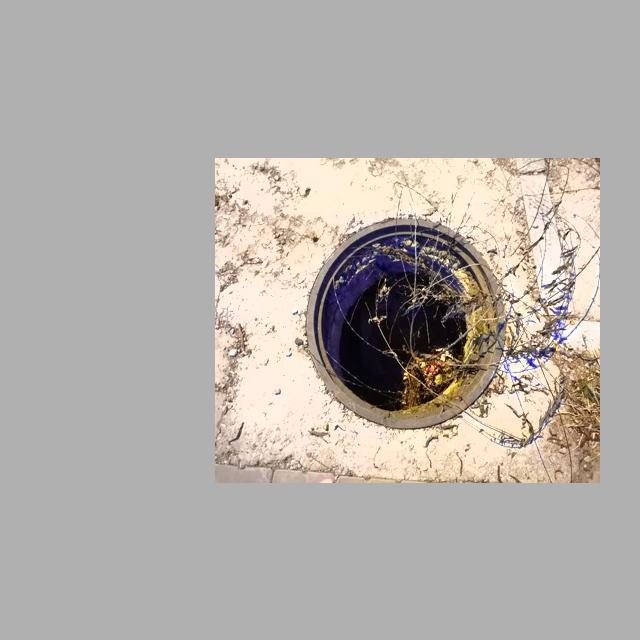lose: (300, 215, 513, 424)
